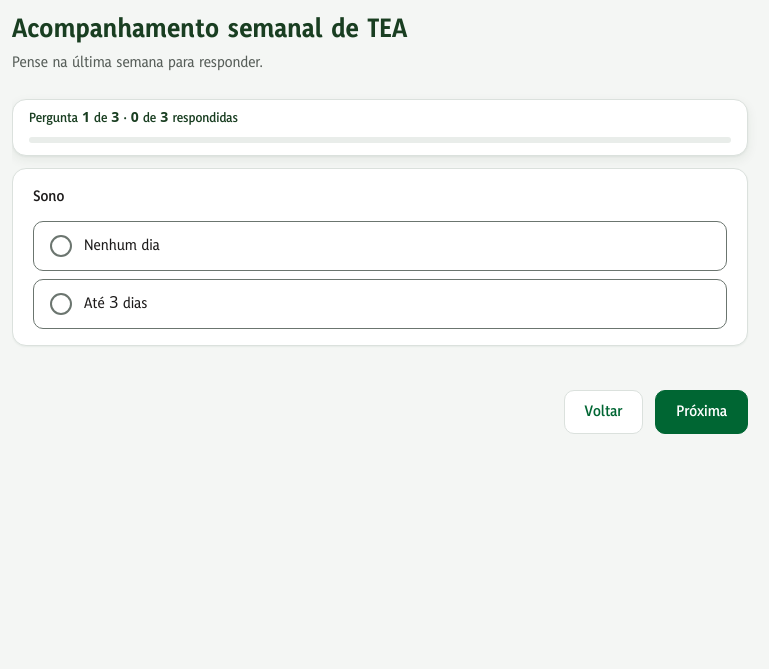
it: Escala no celular, uma pergunta por tela › salvar sem responder nada diz pra responder ao menos um item
Click the button "Próxima". click: point(702, 412)
box: [655, 390, 748, 434]
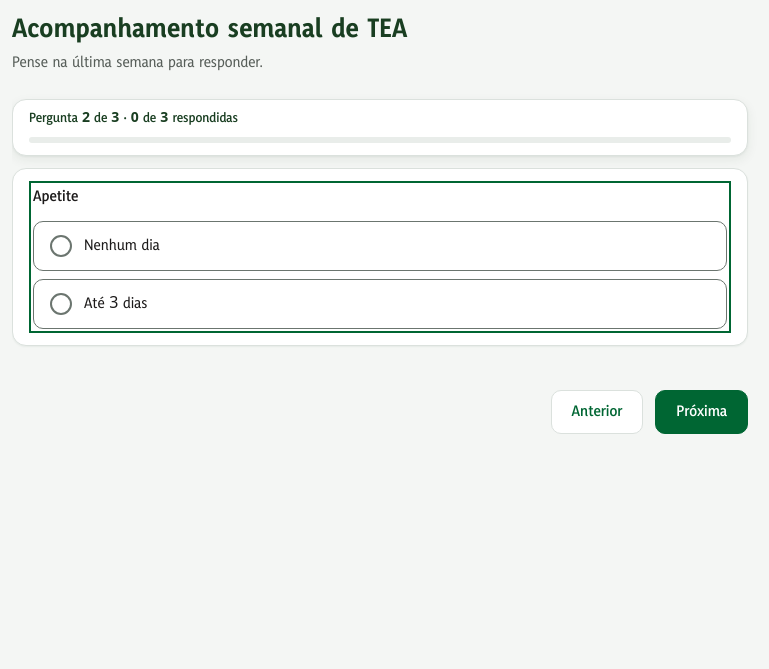
Click the button "Próxima". click: point(702, 412)
box: [655, 390, 748, 434]
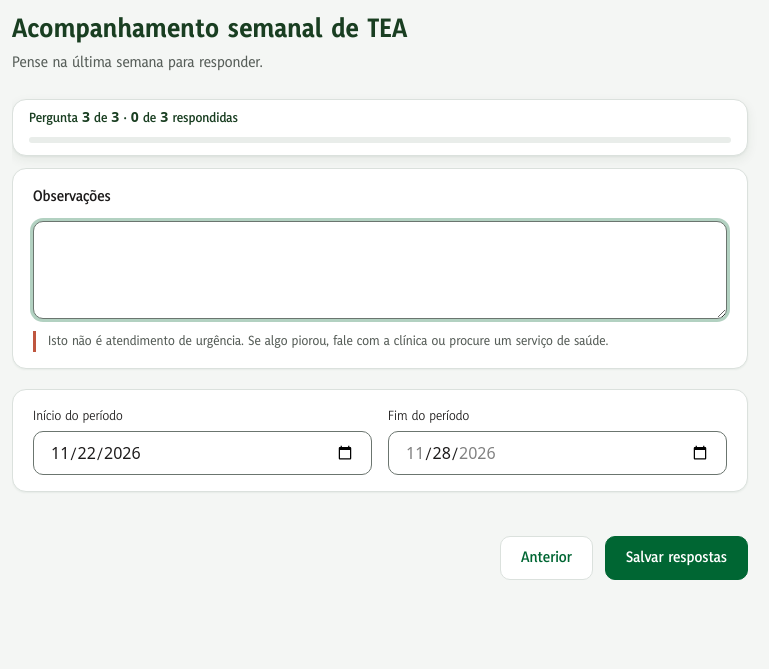
Click the button "Salvar respostas". click: point(676, 558)
box: [605, 536, 748, 580]
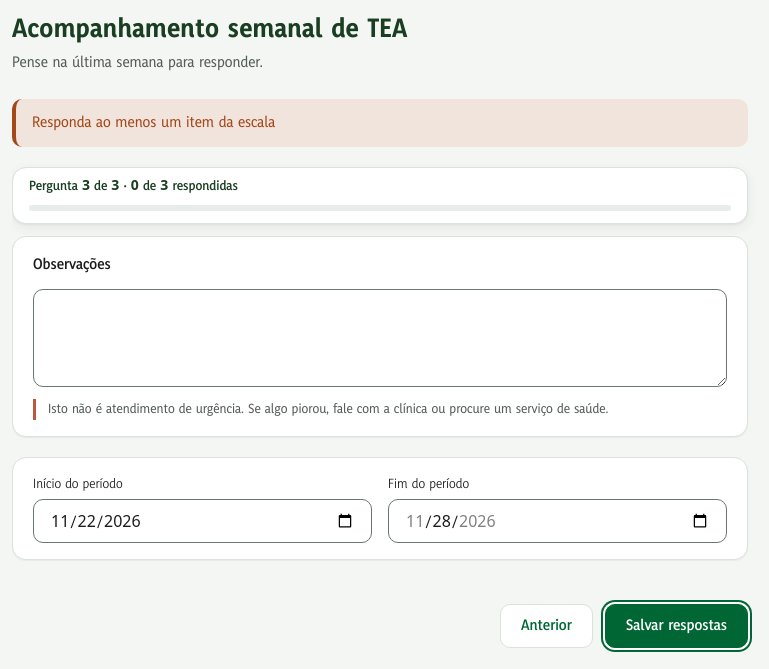
Now the message "Responda ao menos um item da escala" is shown, box [12, 99, 748, 147]
